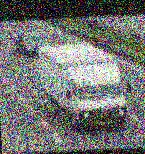truck: (37, 41, 127, 132)
